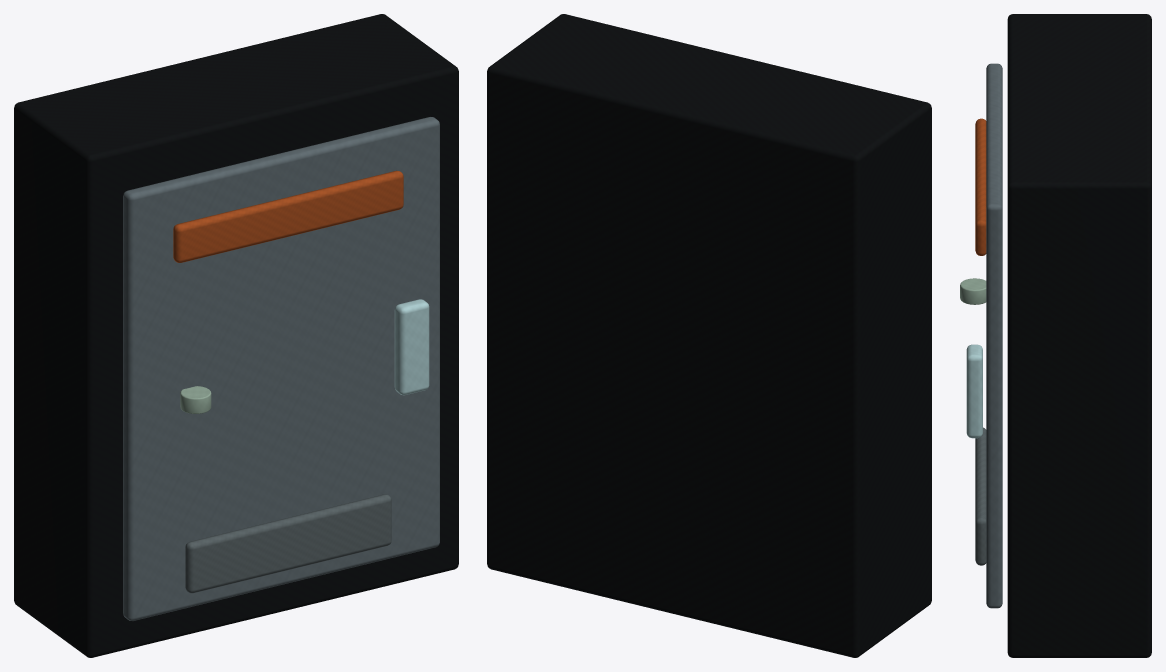
File: WallJunctionBox.fbx
3 renders of one model, left to right at view 1: azimuth 30°, elevation 25°; view 2: azimuth 150°, elevation 25°; view 3: azimuth 270°, elevation 25°, orthographic. The views are drawn at different scales.
Visible parts, largest first — view 1: WallJunctionBox_Mesh; view 2: WallJunctionBox_Mesh; view 3: WallJunctionBox_Mesh.
Boxes of the visible parts, box(x1,y1,x2,y2) form: WallJunctionBox_Mesh: box(14, 14, 458, 657); WallJunctionBox_Mesh: box(487, 14, 931, 657); WallJunctionBox_Mesh: box(960, 14, 1151, 657).
Bounding box in the file's own units: 62 × 80 × 29.25.
